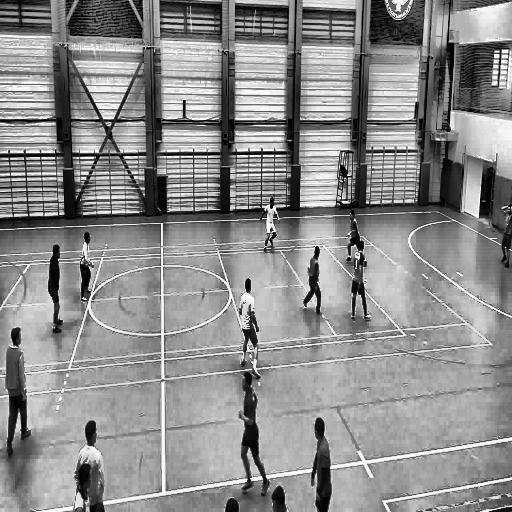ball: (306, 264, 312, 272)
player: (238, 372, 270, 497), (4, 327, 32, 460), (74, 419, 105, 512), (238, 278, 263, 381), (310, 417, 332, 512), (46, 241, 67, 337), (350, 240, 372, 326), (303, 241, 323, 319), (77, 232, 96, 304), (260, 195, 281, 253), (500, 200, 512, 271), (73, 462, 90, 512), (346, 208, 361, 250)
